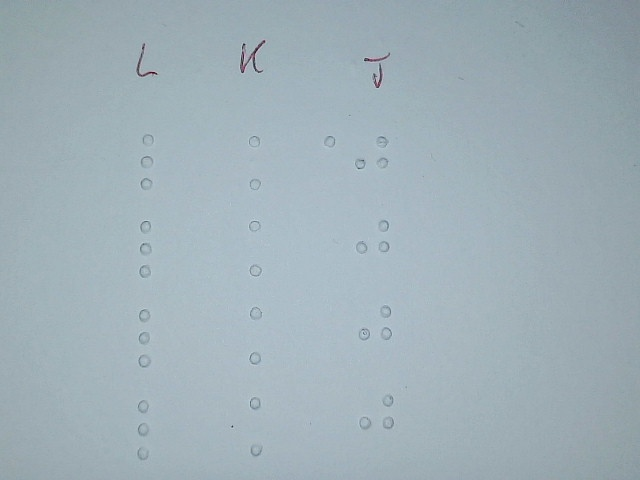J: (353, 126, 391, 189), (353, 211, 391, 274), (355, 295, 393, 358), (357, 384, 395, 447)
K: (240, 131, 284, 196), (241, 216, 285, 281), (241, 303, 285, 368), (241, 394, 285, 459)
L: (132, 129, 176, 194), (132, 216, 176, 281), (131, 304, 175, 369), (129, 396, 173, 461)
